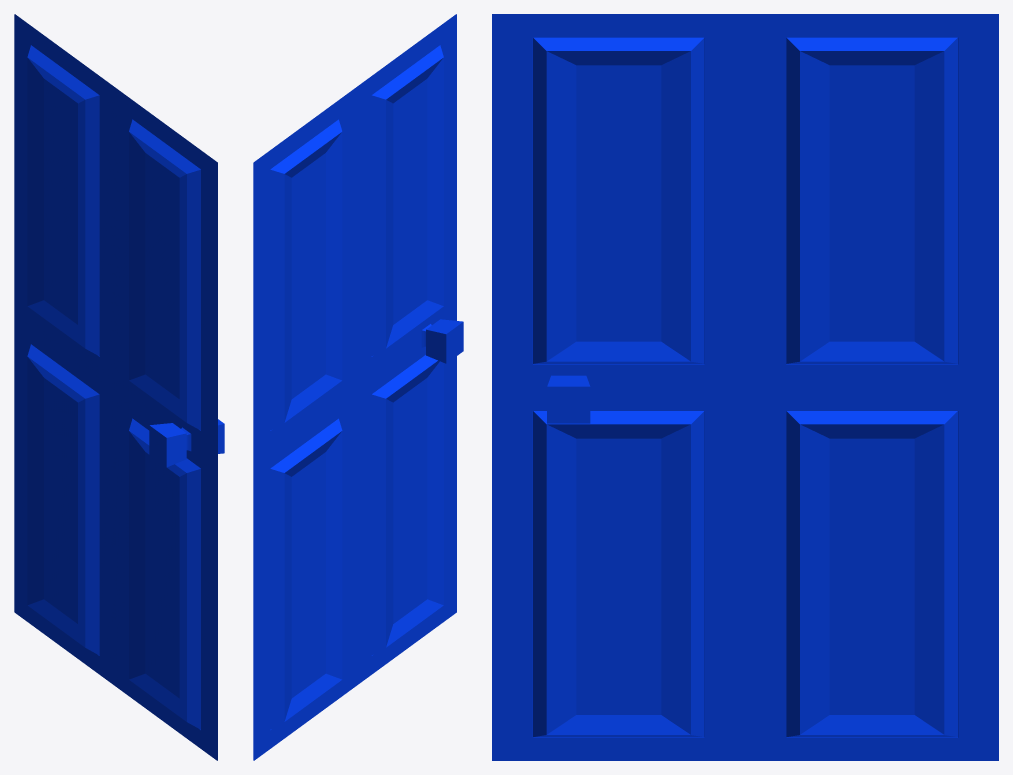
Rendered from BedroomDoor.FBX.
3 renders of one model, left to right at view 1: azimuth 30°, elevation 25°; view 2: azimuth 150°, elevation 25°; view 3: azimuth 270°, elevation 25°, orthographic. The views are drawn at different scales.
Visible parts, largest first — view 1: Object003; view 2: Object003; view 3: Object003.
Part boxes in pixels (x1,y1,x2,y2): Object003: (14, 14, 224, 760); Object003: (253, 14, 463, 760); Object003: (492, 14, 998, 760).
Bounding box in the file's own units: 11.42 × 69.26 × 113.
